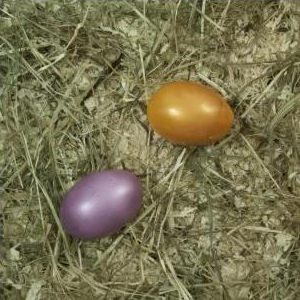egg: (60, 169, 142, 239), (148, 81, 234, 145)
